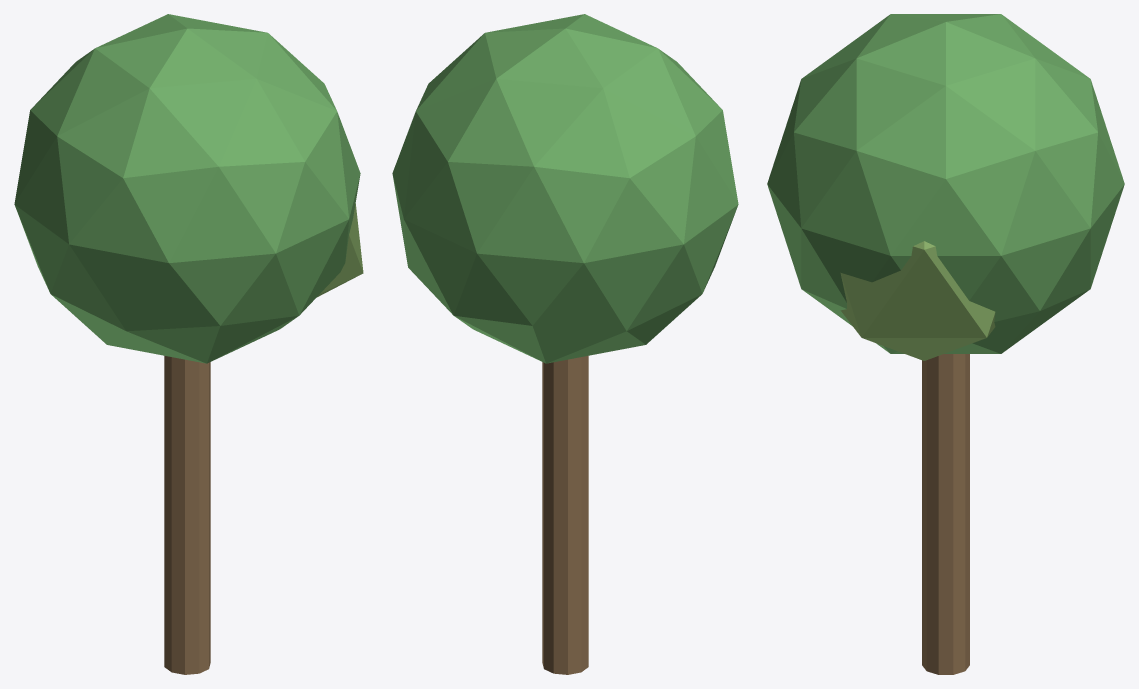
Rendered from tree_v2_01.glb.
3 renders of one model, left to right at view 1: azimuth 30°, elevation 25°; view 2: azimuth 150°, elevation 25°; view 3: azimuth 270°, elevation 25°, orthographic.
Parts seen in each view (by area): view 1: A, Trunk.002, B; view 2: A, Trunk.002; view 3: A, Trunk.002, B.
Boxes of the visible parts, x1=… form: A: x1=14, y1=14, x2=360, y2=363; Trunk.002: x1=164, y1=355, x2=210, y2=674; B: x1=317, y1=204, x2=363, y2=297; A: x1=392, y1=14, x2=738, y2=363; Trunk.002: x1=542, y1=355, x2=588, y2=674; A: x1=767, y1=14, x2=1124, y2=353; Trunk.002: x1=922, y1=354, x2=969, y2=674; B: x1=840, y1=241, x2=995, y2=360.
Size of the model in its own units: 3.2 by 6.55 by 3.3.
